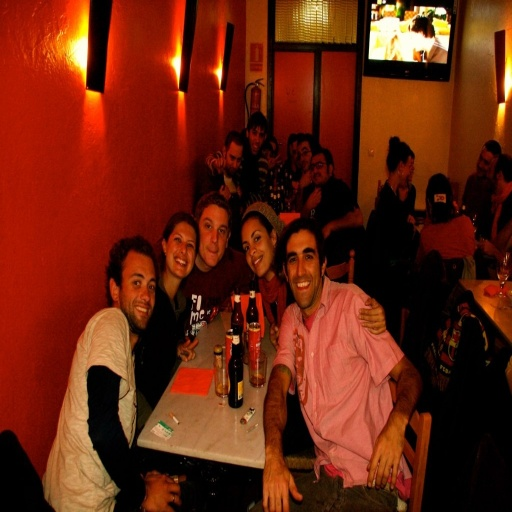hand: (373, 393, 416, 496), (259, 457, 304, 511), (144, 470, 181, 511), (355, 296, 387, 337), (177, 337, 200, 360), (306, 188, 322, 210), (269, 323, 280, 350), (268, 152, 282, 172), (479, 240, 494, 257), (213, 156, 227, 173), (298, 172, 313, 187), (218, 185, 231, 202), (321, 227, 330, 239)
